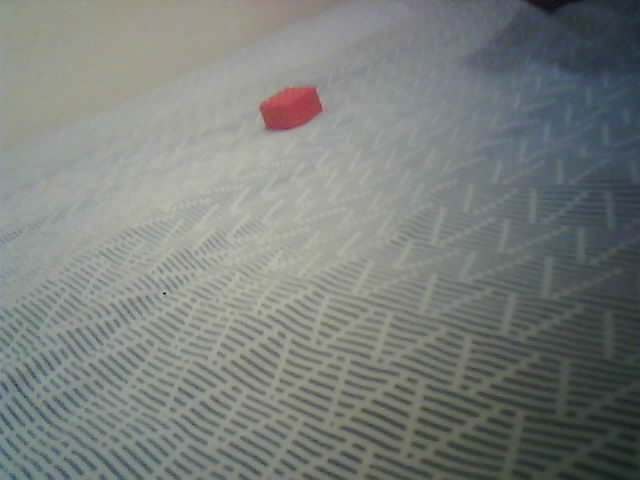lego: (258, 86, 323, 130)
